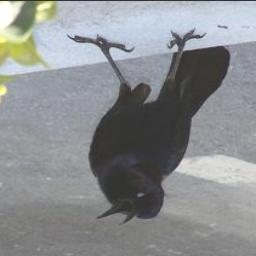Crow: (66, 30, 229, 227)
